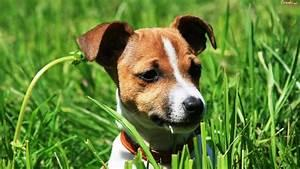dog: (75, 14, 217, 168)
